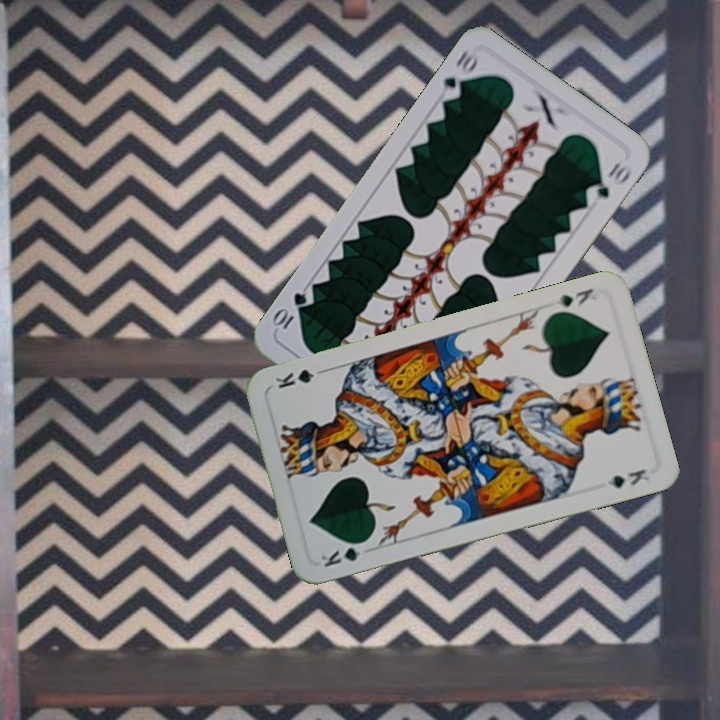G10: (436, 46, 482, 103)
GK: (317, 536, 371, 570), (551, 284, 596, 310)
